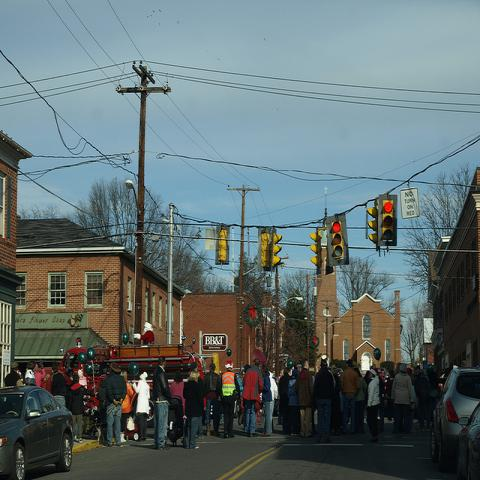car: (1, 382, 77, 472), (430, 366, 479, 474), (455, 401, 479, 479)
truck: (54, 346, 207, 386)
